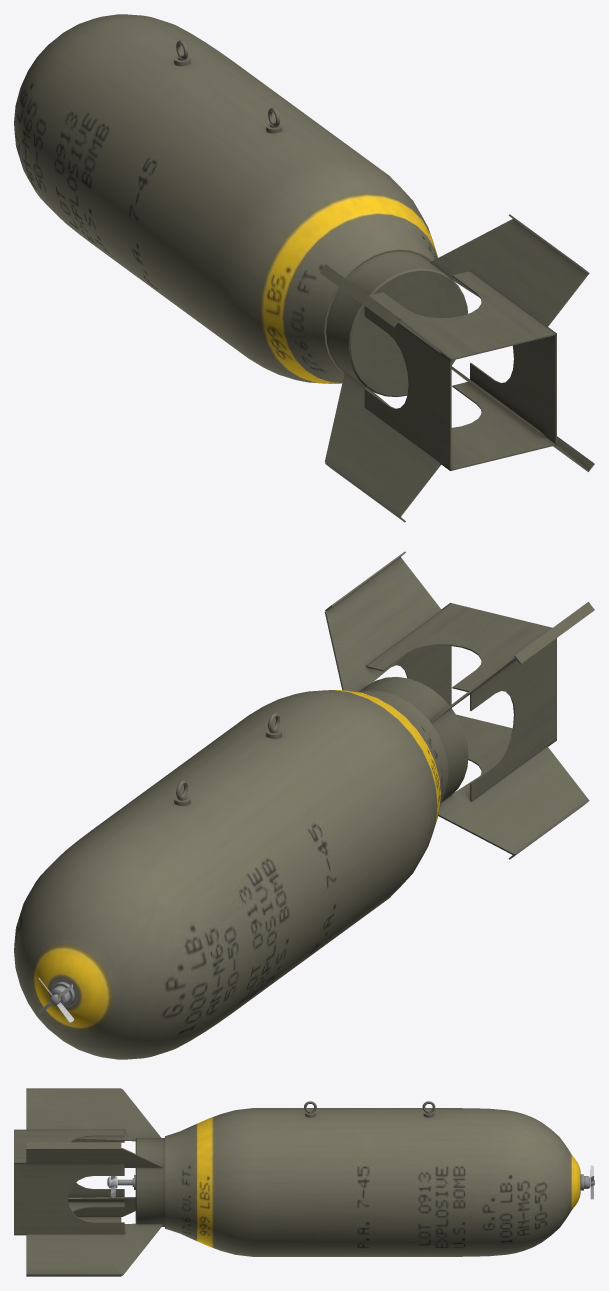
File: bomb1000.glb
3 views of the same model, one above another, from view 1: azimuth 30°, elevation 25°; view 2: azimuth 150°, elevation 25°; view 3: azimuth 270°, elevation 25° (orthographic). The views are drawn at different scales.
Visible parts, largest first — view 1: M65_body, M65_box, M65_fins, M65_lips; view 2: M65_body, M65_fins, M65_box, M65_lips; view 3: M65_body, M65_fins, M65_box, M65_lips, M65_lugs.
Boxes of the visible parts, bbox=[...] form: M65_body: bbox=[14, 14, 467, 396]; M65_box: bbox=[364, 271, 556, 470]; M65_fins: bbox=[324, 219, 588, 517]; M65_lips: bbox=[320, 214, 594, 522]; M65_body: bbox=[14, 677, 468, 1059]; M65_fins: bbox=[324, 557, 588, 854]; M65_box: bbox=[366, 603, 556, 801]; M65_lips: bbox=[325, 551, 594, 859]; M65_body: bbox=[117, 1108, 590, 1256]; M65_fins: bbox=[26, 1089, 163, 1275]; M65_box: bbox=[14, 1129, 124, 1235]; M65_lips: bbox=[26, 1088, 121, 1276]; M65_lugs: bbox=[304, 1101, 435, 1117].
Size of the model in its own units: 0.4844 by 0.5309 by 1.87.
Materials: 4 (4 with a texture image).
